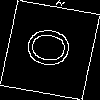O: (24, 25, 81, 72)
